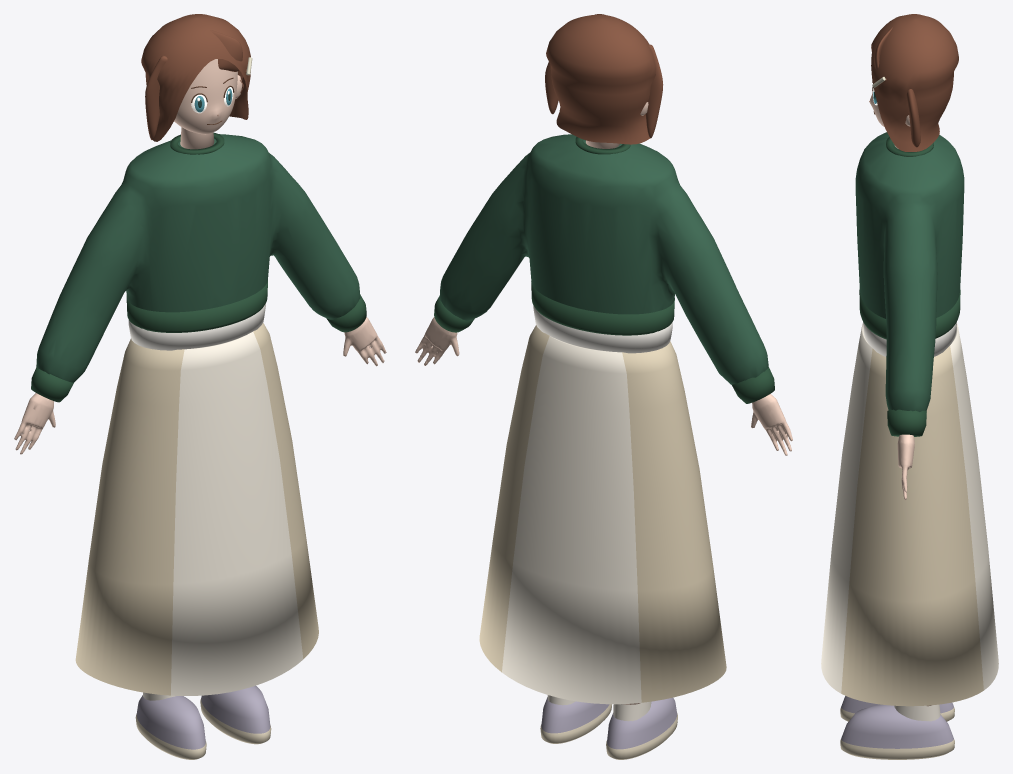
Rendered from walker-female-home-a-preview.glb.
3 views of the same model, side by side, from view 1: azimuth 30°, elevation 25°; view 2: azimuth 150°, elevation 25°; view 3: azimuth 270°, elevation 25° (orthographic).
Visible parts, largest first — view 1: Outfit.LongSkirt.HollowWeightedShell, Outfit.Sweatshirt.ContinuousBodySleeves, Hair.CrownAndBack, Foot.HouseMule.-1, Foot.HouseMule.1, Outfit.Sweatshirt.SoftHem, Head.FaceSculpt, Outfit.CottonInner, Hand.UnifiedFiveDigits.-1, Hand.UnifiedFiveDigits.1, Hair.Bob.Left, Outfit.Sweatshirt.Cuff.-1 (+1 smaller); view 2: Outfit.LongSkirt.HollowWeightedShell, Outfit.Sweatshirt.ContinuousBodySleeves, Hair.CrownAndBack, Outfit.Sweatshirt.SoftHem, Foot.HouseMule.-1, Outfit.CottonInner, Foot.HouseMule.1, Hand.UnifiedFiveDigits.-1, Hand.UnifiedFiveDigits.1, Outfit.Sweatshirt.Cuff.-1, Hair.Bob.Left, Outfit.Sweatshirt.Cuff.1; view 3: Outfit.LongSkirt.HollowWeightedShell, Outfit.Sweatshirt.ContinuousBodySleeves, Hair.CrownAndBack, Foot.HouseMule.1, Outfit.Sweatshirt.SoftHem, Outfit.Sweatshirt.Cuff.1, Outfit.CottonInner, Hand.UnifiedFiveDigits.1, Foot.HouseMule.-1, Foot.Sock.1, Hair.Bob.Right, Outfit.Sweatshirt.Collar.
Boxes of the visible parts, left/top/right/bottom form: Outfit.LongSkirt.HollowWeightedShell: left=75, top=323, right=318, bottom=695; Outfit.Sweatshirt.ContinuousBodySleeves: left=36, top=134, right=360, bottom=382; Hair.CrownAndBack: left=141, top=14, right=250, bottom=141; Foot.HouseMule.-1: left=135, top=695, right=206, bottom=759; Foot.HouseMule.1: left=200, top=685, right=271, bottom=744; Outfit.Sweatshirt.SoftHem: left=126, top=280, right=267, bottom=332; Head.FaceSculpt: left=174, top=59, right=237, bottom=134; Outfit.CottonInner: left=128, top=303, right=265, bottom=350; Hand.UnifiedFiveDigits.-1: left=14, top=393, right=55, bottom=454; Hand.UnifiedFiveDigits.1: left=343, top=317, right=386, bottom=366; Hair.Bob.Left: left=145, top=55, right=167, bottom=139; Outfit.Sweatshirt.Cuff.-1: left=31, top=367, right=73, bottom=402; Outfit.LongSkirt.HollowWeightedShell: left=479, top=325, right=726, bottom=704; Outfit.Sweatshirt.ContinuousBodySleeves: left=439, top=134, right=768, bottom=385; Hair.CrownAndBack: left=546, top=14, right=655, bottom=144; Outfit.Sweatshirt.SoftHem: left=531, top=282, right=674, bottom=335; Foot.HouseMule.-1: left=606, top=697, right=677, bottom=759; Outfit.CottonInner: left=533, top=305, right=672, bottom=353; Foot.HouseMule.1: left=540, top=697, right=611, bottom=743; Hand.UnifiedFiveDigits.-1: left=751, top=394, right=792, bottom=455; Hand.UnifiedFiveDigits.1: left=415, top=317, right=459, bottom=365; Outfit.Sweatshirt.Cuff.-1: left=732, top=367, right=774, bottom=403; Hair.Bob.Left: left=645, top=44, right=663, bottom=138; Outfit.Sweatshirt.Cuff.1: left=434, top=296, right=474, bottom=332; Outfit.LongSkirt.HollowWeightedShell: left=821, top=323, right=998, bottom=706; Outfit.Sweatshirt.ContinuousBodySleeves: left=855, top=132, right=964, bottom=411; Hair.CrownAndBack: left=871, top=14, right=958, bottom=151; Foot.HouseMule.1: left=840, top=704, right=954, bottom=759; Outfit.Sweatshirt.SoftHem: left=859, top=289, right=960, bottom=339; Outfit.Sweatshirt.Cuff.1: left=887, top=409, right=926, bottom=436; Outfit.CottonInner: left=863, top=322, right=956, bottom=356; Hand.UnifiedFiveDigits.1: left=897, top=434, right=914, bottom=500; Foot.HouseMule.-1: left=840, top=696, right=954, bottom=721; Foot.Sock.1: left=894, top=704, right=940, bottom=721; Hair.Bob.Right: left=906, top=89, right=920, bottom=147; Outfit.Sweatshirt.Collar: left=886, top=137, right=933, bottom=156.
Bounding box in the file's own units: 0.8786 × 1.6 × 0.3601.
